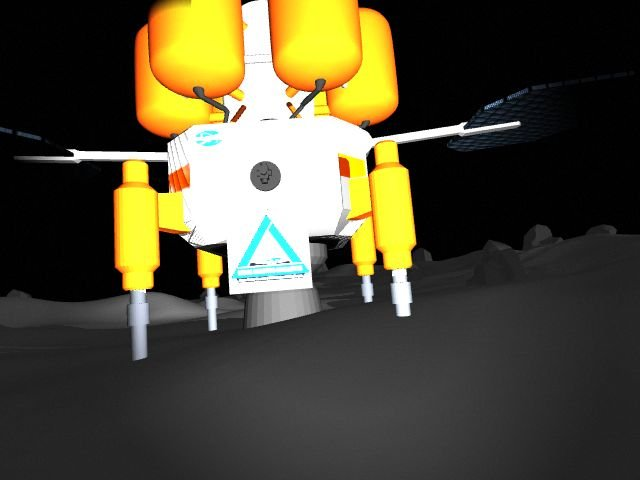basemarker: (231, 214, 310, 285)
